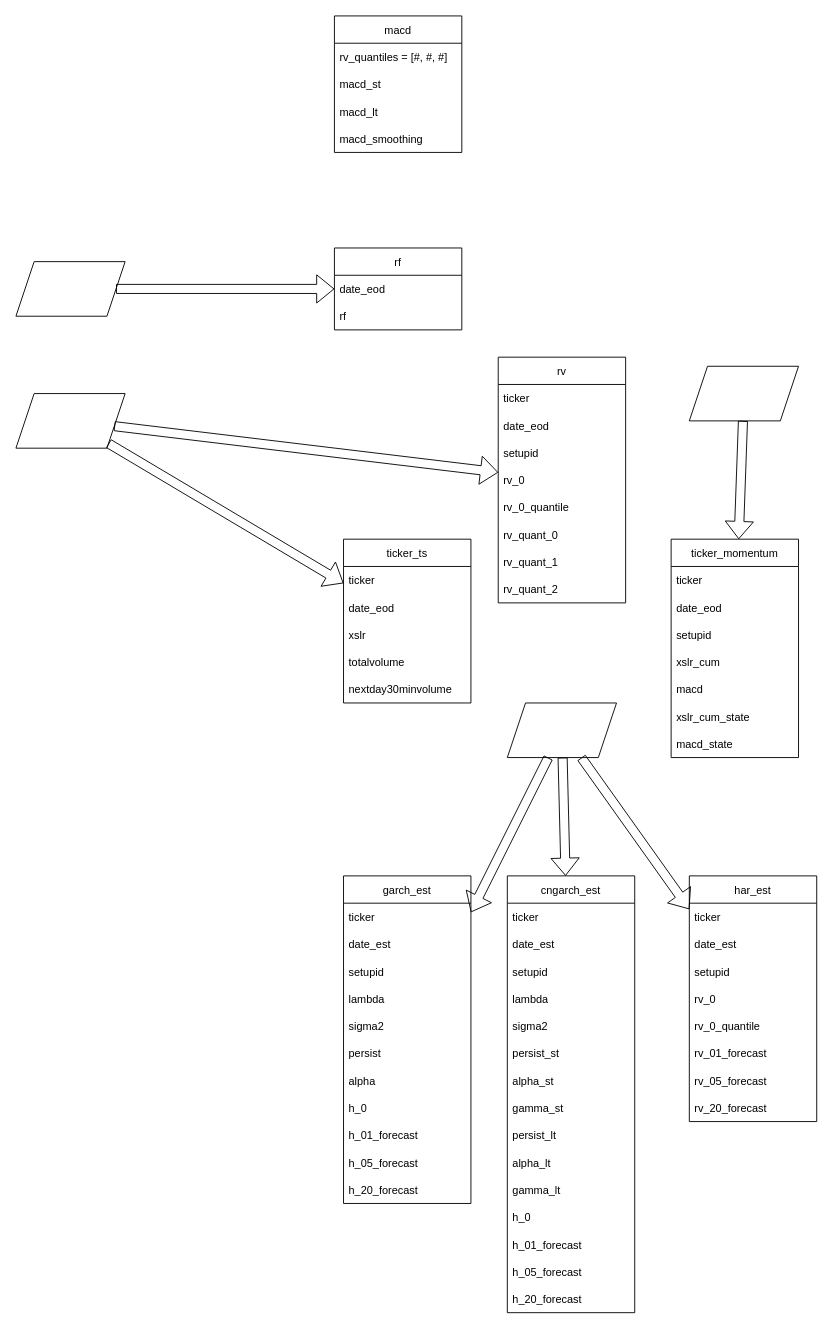
The diagram is 833 pixels wide and 1329 high, and some of its shapes have lost their labels. The centre of each missing label's shape, as x and y in pixels:
estimation.py: point (561, 730)
rf.py: point (70, 288)
ticker_momentum.py: point (743, 393)
tickers.py: point (70, 420)
